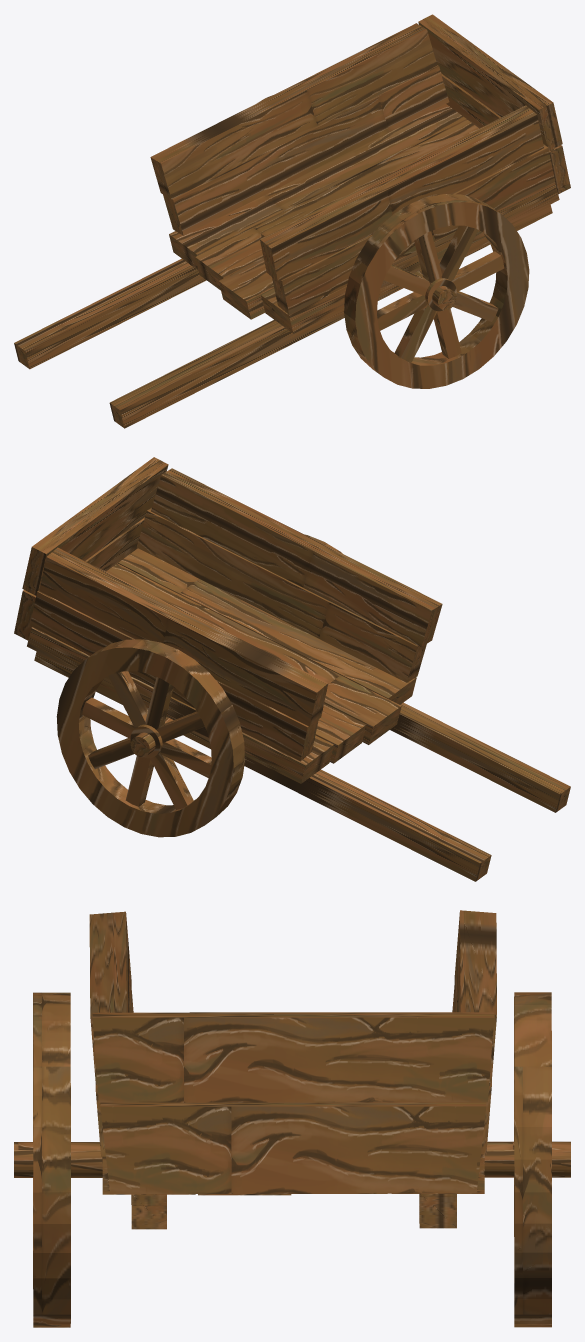
File: haycart.fbx
3 renders of one model, top to bottom at view 1: azimuth 30°, elevation 25°; view 2: azimuth 150°, elevation 25°; view 3: azimuth 270°, elevation 25°, orthographic. The views are drawn at different scales.
Visible parts, largest first — view 1: Cylinder.026, Cube.180, Cube.178, Cube.179, Cube.176, Cube.183, Cube.177, Cube.184, Cube.181, Cube.175, Cube.173, Cube.174 (+1 smaller); view 2: Cylinder.028, Cube.178, Cube.180, Cube.177, Cube.184, Cube.173, Cube.179, Cube.181, Cube.174, Cube.183, Cube.176, Cube.182 (+1 smaller); view 3: Cube.181, Cube.182, Cylinder.026, Cylinder.028, Cube.180, Cube.178, Cylinder.027, Cube.184, Cube.183.
Part boxes in pixels (x1,y1,x2,y2): Cylinder.026: (344, 194, 529, 388); Cube.180: (150, 23, 437, 199); Cube.178: (260, 105, 543, 281); Cube.179: (163, 65, 449, 235); Cube.176: (169, 104, 466, 270); Cube.183: (109, 204, 552, 428); Cube.177: (272, 144, 555, 314); Cube.184: (14, 258, 206, 369); Cube.181: (418, 14, 562, 150); Cube.175: (195, 120, 478, 290); Cube.173: (261, 181, 559, 333); Cube.174: (218, 258, 274, 319); Cylinder.028: (56, 639, 245, 837); Cube.178: (151, 468, 442, 646); Cube.180: (39, 547, 328, 726); Cube.177: (136, 508, 426, 682); Cube.184: (34, 651, 491, 881); Cube.173: (118, 548, 416, 704); Cube.179: (30, 590, 318, 761); Cube.181: (22, 457, 168, 595); Cube.174: (106, 563, 401, 744); Cube.183: (390, 702, 570, 812); Cube.176: (27, 627, 333, 783); Cube.182: (14, 517, 144, 640); Cube.181: (92, 1012, 494, 1102); Cube.182: (100, 1102, 486, 1193); Cylinder.026: (33, 992, 70, 1327); Cylinder.028: (514, 992, 551, 1327); Cube.180: (454, 910, 496, 1083); Cube.178: (89, 911, 131, 1084); Cylinder.027: (14, 1141, 570, 1177); Cube.184: (419, 1194, 456, 1228); Cube.183: (131, 1194, 166, 1229).
Bounding box in the file's own units: 570 × 288 × 365.
